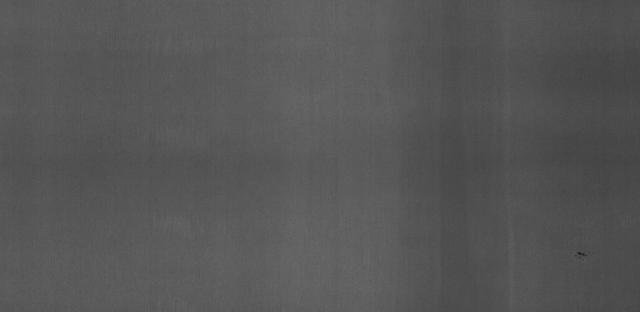inclusion: (569, 247, 598, 265)
